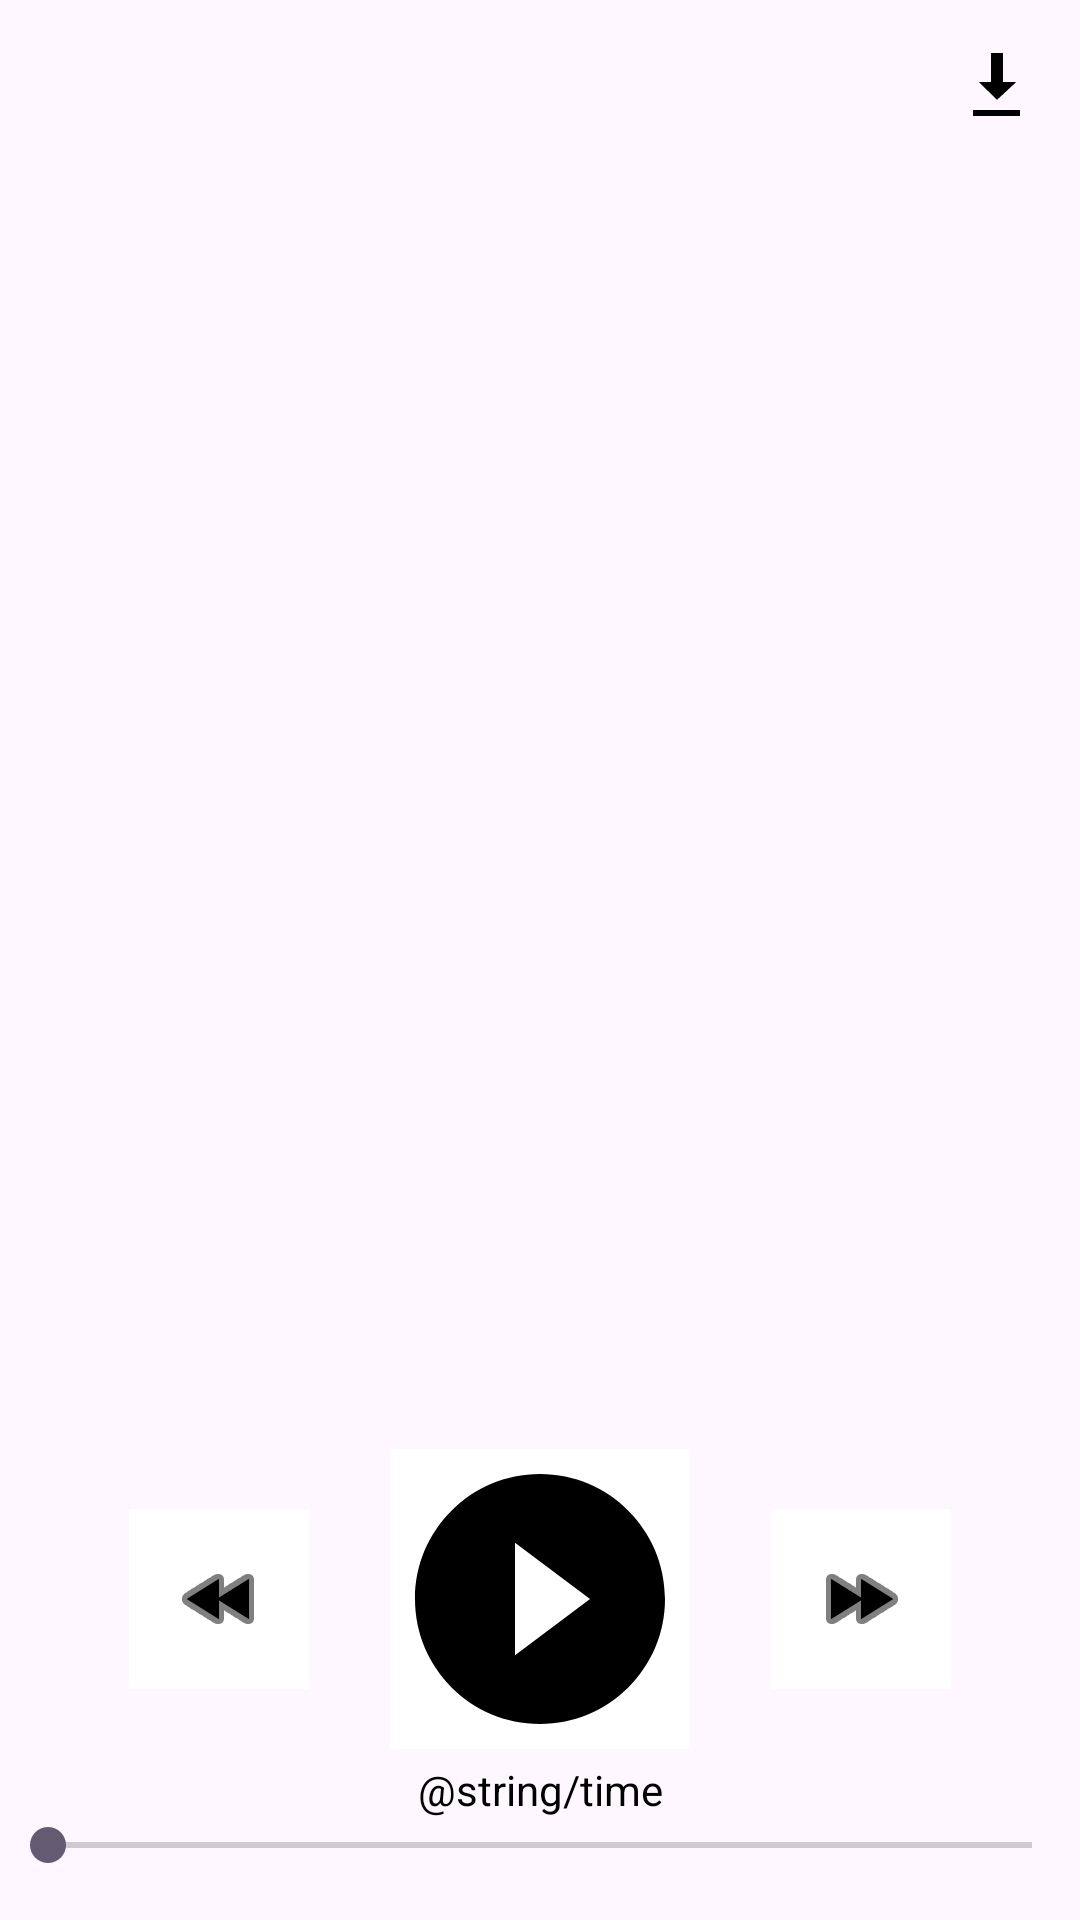

Screen size 1080×1920. Icon name, then its center in pixels as (x=x, y=y):
download: (x=996, y=84)
rew: (x=218, y=1599)
